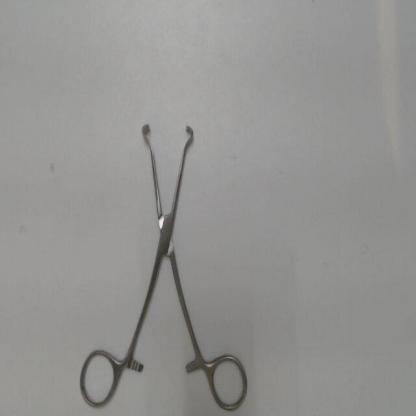Babcock Tissue Forceps: (72, 119, 254, 414)
